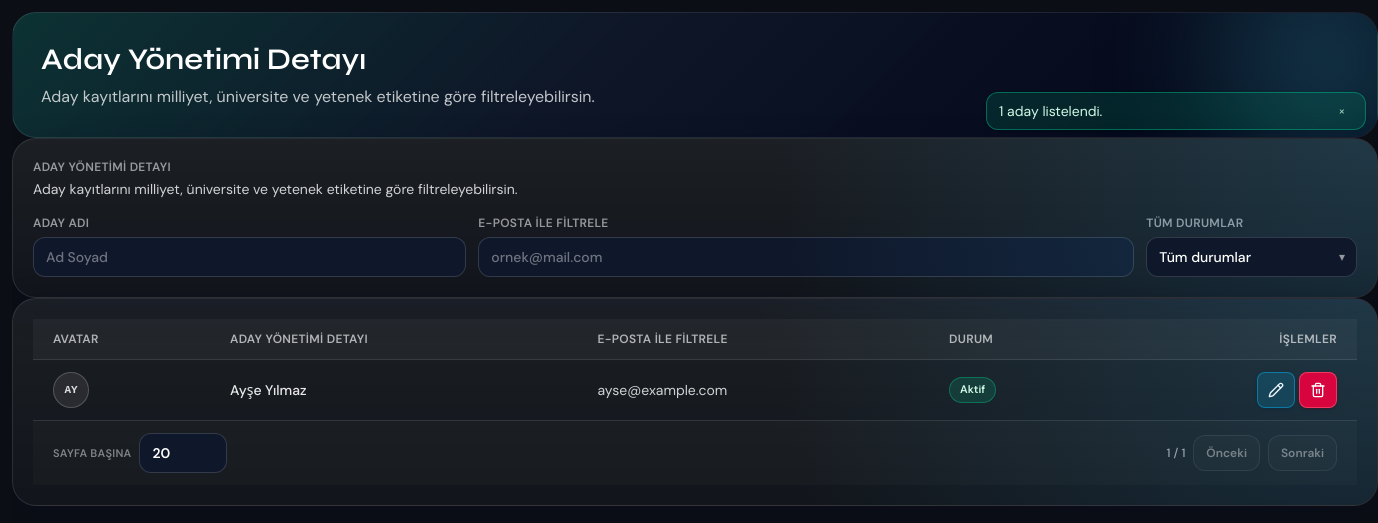
AdminCandidatesPage button actions › navigates to candidate detail when edit is clicked
Check: the text "ayse@example.com" is shown, box [577, 360, 929, 420]
Click the button named "Düzenle" at point(1276, 390), box [1257, 372, 1295, 408]
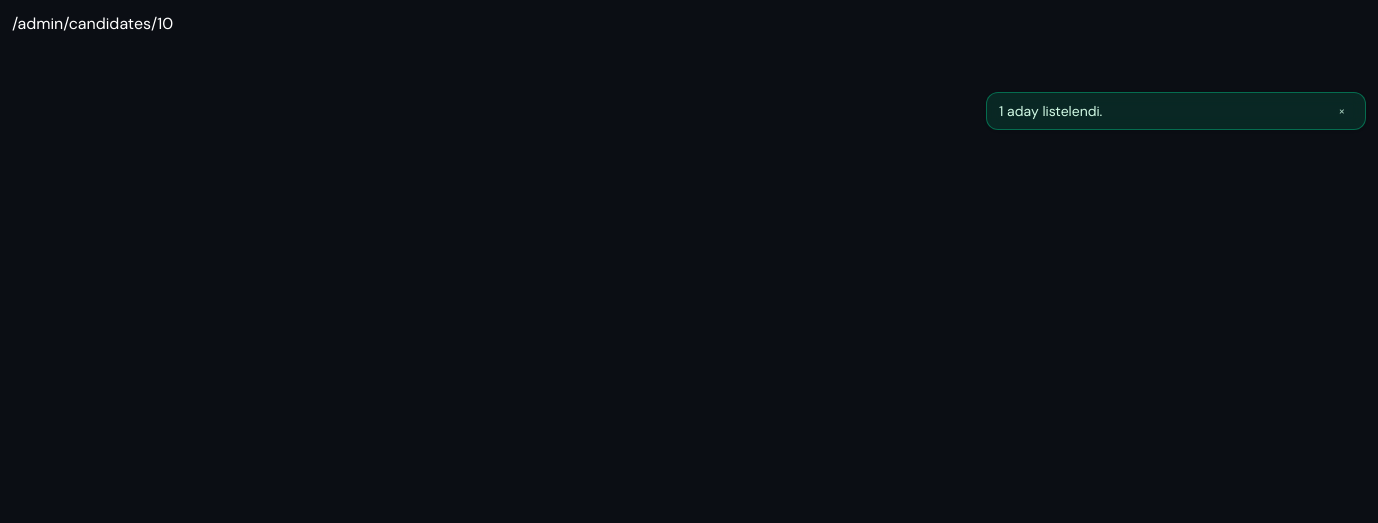
Check: the text with test id "location-pathname" reads "/admin/candidates/10", box [12, 13, 173, 34]
